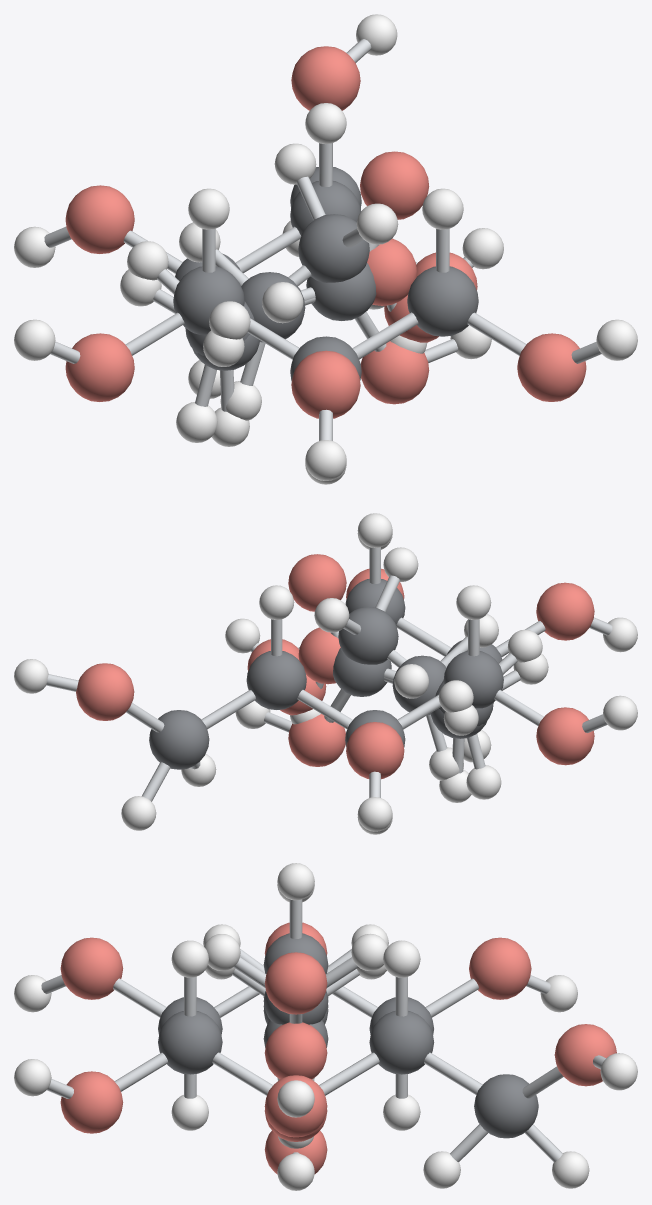
File: organic_molecules.glb
The picture shows the model from 3 angles, top to bottom: view 1: azimuth 30°, elevation 25°; view 2: azimuth 150°, elevation 25°; view 3: azimuth 270°, elevation 25°; orthographic projection. The views are drawn at different scales.
Parts seen in each view (by area): view 1: glucose_O, glucose_H, glucose_C, glucose_bonds1, ethanol_H, acetic_acid_O, acetic_acid_H, ethanol_C, methanol_H, acetic_acid_C, methanol_O, ethanol_bonds1 (+4 smaller); view 2: glucose_O, glucose_C, glucose_H, glucose_bonds1, ethanol_H, acetic_acid_O, acetic_acid_H, ethanol_C, methanol_H, acetic_acid_C, methanol_O, ethanol_bonds1 (+4 smaller); view 3: glucose_O, glucose_H, glucose_C, glucose_bonds1, acetic_acid_O, ethanol_H, methanol_O, acetic_acid_H, ethanol_bonds1, ethanol_C, methanol_H, methanol_bonds1.
Part boxes in pixels (x1,y1,x2,y2): glucose_O: (65,46,586,418); glucose_H: (14,14,637,484); glucose_C: (173,167,478,381); glucose_bonds1: (44,39,601,440); ethanol_H: (120,143,503,446); acetic_acid_O: (360,151,429,404); acetic_acid_H: (127,241,491,442); ethanol_C: (192,214,369,370); methanol_H: (179,222,427,420); acetic_acid_C: (185,263,376,355); methanol_O: (367,238,416,305); ethanol_bonds1: (153,176,473,411); glucose_O: (76,568,594,779); glucose_C: (149,579,503,769); glucose_H: (14,513,637,834); glucose_bonds1: (46,547,612,801); ethanol_H: (225,547,548,802); acetic_acid_O: (288,554,346,766); acetic_acid_H: (235,629,542,799); ethanol_C: (338,607,487,738); methanol_H: (290,614,498,780); acetic_acid_C: (333,648,493,725); methanol_O: (298,627,340,684); ethanol_bonds1: (250,575,520,773); glucose_O: (60,922,616,1137); glucose_H: (14,863,637,1188); glucose_C: (158,933,538,1138); glucose_bonds1: (41,899,605,1161); acetic_acid_O: (264,952,327,1174); ethanol_H: (204,934,387,1117); methanol_O: (264,1022,327,1079); acetic_acid_H: (203,924,388,1190); ethanol_bonds1: (233,957,358,987); ethanol_C: (263,991,328,1024); methanol_H: (205,965,386,1148); methanol_bonds1: (232,969,359,996).
Size of the model in its own units: 0.1932 by 0.0875 by 0.2074.
